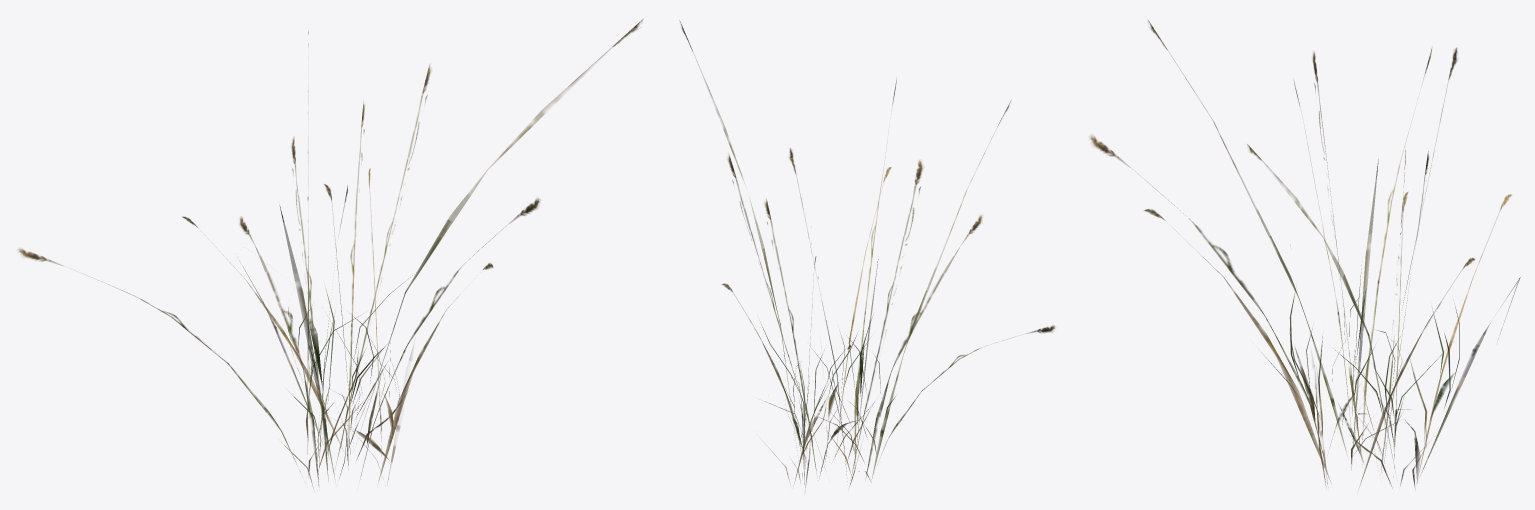
File: veg-67.glb
3 renders of one model, left to right at view 1: azimuth 30°, elevation 25°; view 2: azimuth 150°, elevation 25°; view 3: azimuth 270°, elevation 25°, orthographic. The views are drawn at different scales.
Visible parts, largest first — view 1: _r2c2_VarF_LOD4_67; view 2: _r2c2_VarF_LOD4_67; view 3: _r2c2_VarF_LOD4_67.
Boxes of the visible parts, x1,y1,x2,y2 form: _r2c2_VarF_LOD4_67: (18,19,643,488); _r2c2_VarF_LOD4_67: (679,20,1055,489); _r2c2_VarF_LOD4_67: (1089,20,1520,489).
Bounding box in the file's own units: 0.8158 × 0.6484 × 0.5533.
Materials: 1 (1 with a texture image).
